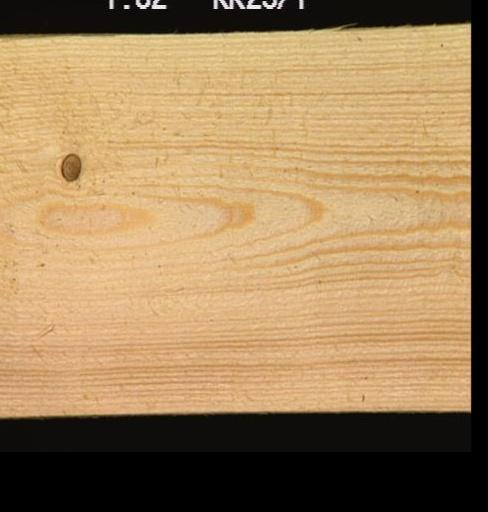dry_knot: (57, 149, 81, 182)
